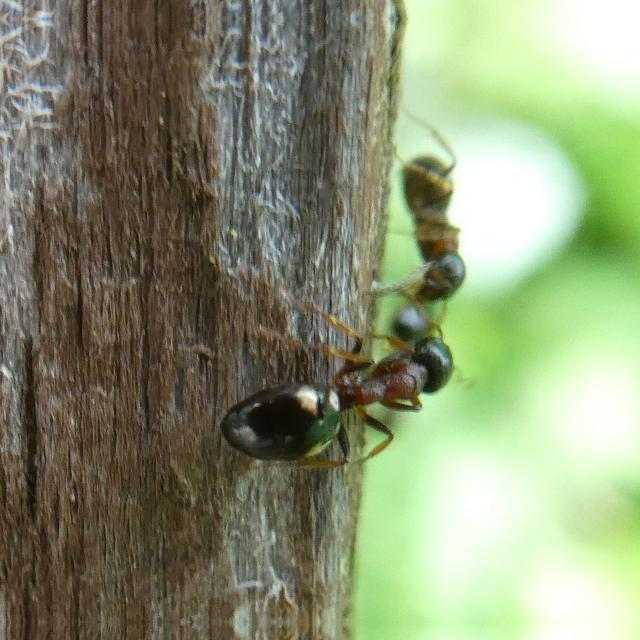Dolichoderus: (196, 307, 474, 487), (379, 125, 501, 318)
